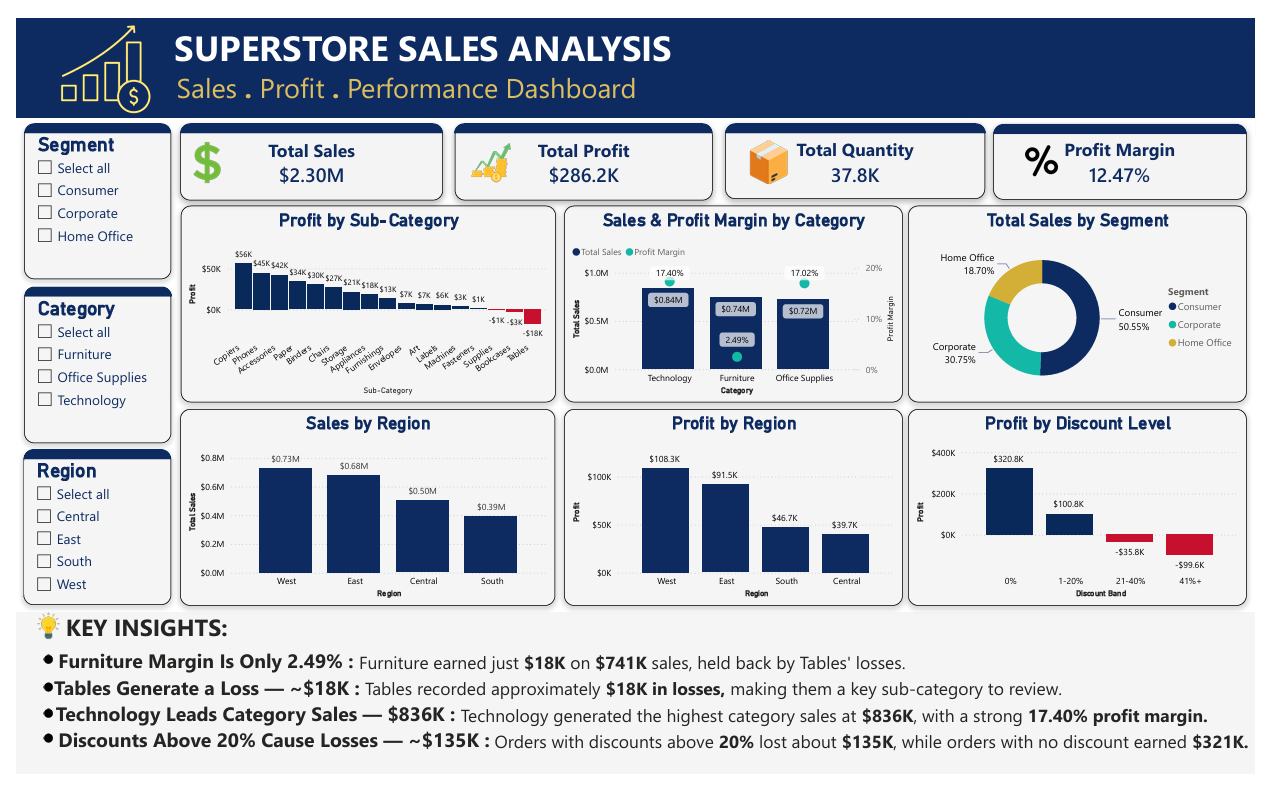

What the dashboard file says about the page in this screenshot:
{"tool":"powerbi","page":{"name":"Sales Dashboard","canvas":[1700,1039],"ordinal":0},"visuals":[{"type":"cardVisual","fields":{"Data":["SuperstoreCleanedData.Sales Card"]},"box":[225,147.1,361.4,104.2],"z":0,"group":"g10"},{"type":"lineClusteredColumnComboChart","title":"Sales & Profit Margin by Category","fields":{"Category":["SuperstoreCleanedData.Category"],"Y":["SuperstoreCleanedData.Total Sales"],"Y2":["SuperstoreCleanedData.Profit Margin"]},"box":[752.1,258.3,465,270],"z":0},{"type":"cardVisual","fields":{"Data":["SuperstoreCleanedData.Quantity Card"]},"box":[973.5,146.1,357,103],"z":1000,"group":"g4"},{"type":"clusteredColumnChart","title":"Profit by Sub-Category","fields":{"Category":["SuperstoreCleanedData.Sub-Category"],"Y":["SuperstoreCleanedData.Total Profit"]},"box":[225.8,257.6,515,270],"z":1000},{"type":"cardVisual","fields":{"Data":["SuperstoreCleanedData.Profit Card"]},"box":[601.8,146.8,354.1,104.2],"z":2000,"group":"g9"},{"type":"clusteredColumnChart","title":"Sales by Region","fields":{"Category":["SuperstoreCleanedData.Region"],"Y":["SuperstoreCleanedData.Total Sales"]},"box":[225,537.3,515,270],"z":2000},{"type":"cardVisual","fields":{"Data":["SuperstoreCleanedData.Profit Margin"]},"box":[1341.4,146.6,347.5,102.7],"z":3000,"group":"g11"},{"type":"clusteredColumnChart","title":"Profit by Region","fields":{"Category":["SuperstoreCleanedData.Region"],"Y":["SuperstoreCleanedData.Profit K"]},"box":[752.1,537.3,465,270],"z":3000},{"type":"textbox","box":[0,2.4,1700,136.6],"z":4000},{"type":"donutChart","fields":{"Category":["SuperstoreCleanedData.Segment"],"Y":["SuperstoreCleanedData.Total Sales"]},"box":[1224,257.6,465,270],"z":5000},{"type":"image","box":[0,7.3,246.3,128],"z":6000},{"type":"group","id":"g1","title":"Group 1","box":[223,145.3,363.5,106],"z":7000},{"type":"textbox","box":[0,815.5,1700,221.9],"z":7000,"group":"g8"},{"type":"group","id":"g2","title":"Group 2","box":[601.1,145,355,106],"z":8000},{"type":"group","id":"g3","title":"Group 3","box":[1341.3,145.7,347.8,102.2],"z":9000},{"type":"image","box":[16.7,814.9,55.6,38.9],"z":9000,"group":"g8"},{"type":"group","id":"g4","title":"Group 4","box":[973.5,145,357.1,106.1],"z":10000},{"type":"slicer","fields":{"Values":["SuperstoreCleanedData.Segment"]},"box":[10.8,147,202.2,212],"z":10000,"group":"g7"},{"type":"group","id":"g5","title":"Group 8","box":[10.9,369.3,202.7,214.7],"z":11000},{"type":"group","id":"g6","title":"Group 9","box":[10,592,203,215],"z":12000},{"type":"group","id":"g7","title":"Group 10","box":[10.8,145,202.2,214],"z":13000},{"type":"slicer","fields":{"Values":["SuperstoreCleanedData.Category"]},"box":[10.9,372,202.2,212],"z":13000,"group":"g5"},{"type":"slicer","fields":{"Values":["SuperstoreCleanedData.Region"]},"box":[10.4,594.2,202.2,212],"z":14000,"group":"g6"},{"type":"group","id":"g8","title":"Group 11","box":[0,814.9,1700,222.6],"z":14000},{"type":"image","box":[223,168.6,78,62],"z":15000,"group":"g10"},{"type":"clusteredColumnChart","title":"Profit by Discount Level","fields":{"Category":["SuperstoreCleanedData.Discount Band"],"Y":["SuperstoreCleanedData.Profit K"]},"box":[1224.5,536.7,465,270],"z":15000},{"type":"image","box":[622.9,167,58,64],"z":16000,"group":"g9"},{"type":"image","box":[38,870,13,21],"z":16000},{"type":"image","box":[993.1,168.7,80.1,60],"z":17000,"group":"g4"},{"type":"image","box":[38,908,13,21],"z":17000},{"type":"image","box":[1385.7,164.6,45,62.4],"z":18000,"group":"g11"},{"type":"image","box":[38,944,13,21],"z":18000},{"type":"image","box":[38,978,13,21],"z":19000},{"type":"shape","box":[1341.3,145.7,347.5,14],"z":23003,"group":"g11"},{"type":"shape","box":[973.7,145,357.6,14],"z":23004,"group":"g4"},{"type":"shape","box":[601.1,145,355,14.3],"z":23005,"group":"g9"},{"type":"shape","box":[10.8,145,202,14.2],"z":23006,"group":"g7"},{"type":"shape","box":[225.1,145.3,361.3,14.3],"z":23006,"group":"g10"},{"type":"group","id":"g9","title":"Group 5","box":[601.1,145,355,106],"z":23011,"group":"g2"},{"type":"group","id":"g10","title":"Group 6","box":[223,145.3,363.5,106],"z":23011,"group":"g1"},{"type":"shape","box":[11.1,369.3,202.5,14],"z":23011,"group":"g5"},{"type":"shape","box":[10,592,202.5,14],"z":23012,"group":"g6"},{"type":"group","id":"g11","title":"Group 7","box":[1341.3,145.7,347.6,103.6],"z":23013,"group":"g3"}]}

Visuals, with their boxes in screenshot pixels (x1, y1, x2, y2), scaled from the page's 1700x1039 canvas onto the 1273x790 screenshot:
cardVisual - SuperstoreCleanedData.Sales Card: locate(168, 112, 439, 191)
"Sales & Profit Margin by Category" lineClusteredColumnComboChart: locate(563, 196, 911, 402)
cardVisual - SuperstoreCleanedData.Quantity Card: locate(729, 111, 996, 189)
"Profit by Sub-Category" clusteredColumnChart: locate(169, 196, 555, 401)
cardVisual - SuperstoreCleanedData.Profit Card: locate(451, 112, 716, 191)
"Sales by Region" clusteredColumnChart: locate(168, 409, 554, 614)
cardVisual - SuperstoreCleanedData.Profit Margin: locate(1004, 111, 1265, 190)
"Profit by Region" clusteredColumnChart: locate(563, 409, 911, 614)
textbox: locate(0, 2, 1272, 106)
donutChart - SuperstoreCleanedData.Segment x SuperstoreCleanedData.Total Sales: locate(917, 196, 1265, 401)
image: locate(0, 6, 184, 103)
"Group 1" group: locate(167, 110, 439, 191)
textbox: locate(0, 620, 1272, 789)
"Group 2" group: locate(450, 110, 716, 191)
"Group 3" group: locate(1004, 111, 1265, 188)
image: locate(13, 620, 54, 649)
"Group 4" group: locate(729, 110, 996, 191)
slicer - SuperstoreCleanedData.Segment: locate(8, 112, 159, 273)
"Group 8" group: locate(8, 281, 160, 444)
"Group 9" group: locate(7, 450, 159, 614)
"Group 10" group: locate(8, 110, 159, 273)
slicer - SuperstoreCleanedData.Category: locate(8, 283, 160, 444)
slicer - SuperstoreCleanedData.Region: locate(8, 452, 159, 613)
"Group 11" group: locate(0, 620, 1272, 789)
image: locate(167, 128, 225, 175)
"Profit by Discount Level" clusteredColumnChart: locate(917, 408, 1265, 613)
image: locate(466, 127, 510, 176)
image: locate(28, 662, 38, 677)
image: locate(744, 128, 804, 174)
image: locate(28, 690, 38, 706)
image: locate(1038, 125, 1071, 173)
image: locate(28, 718, 38, 734)
image: locate(28, 744, 38, 760)
shape: locate(1004, 111, 1265, 121)
shape: locate(729, 110, 997, 121)
shape: locate(450, 110, 716, 121)
shape: locate(8, 110, 159, 121)
shape: locate(169, 110, 439, 121)
"Group 5" group: locate(450, 110, 716, 191)
"Group 6" group: locate(167, 110, 439, 191)
shape: locate(8, 281, 160, 291)
shape: locate(7, 450, 159, 461)
"Group 7" group: locate(1004, 111, 1265, 190)
